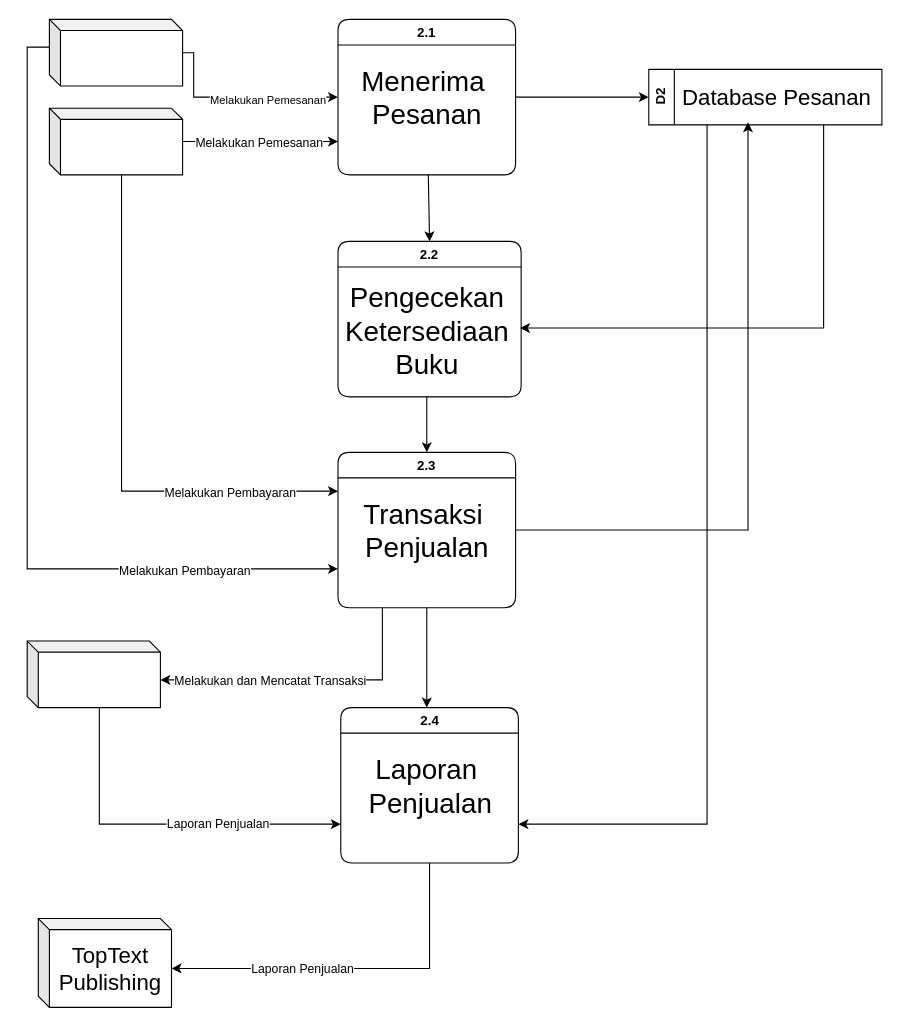
The diagram is 901 pixels wide and 1027 high, and some of its shapes have lost their labels. The shapes that lost their labels are listed below. From the top down, each one's centre as x and y in pixels, then its label:
At pixel 115 52: "Sekolah".
At pixel 115 141: "Pelanggan".
At pixel 93 674: "Tim Seller".
